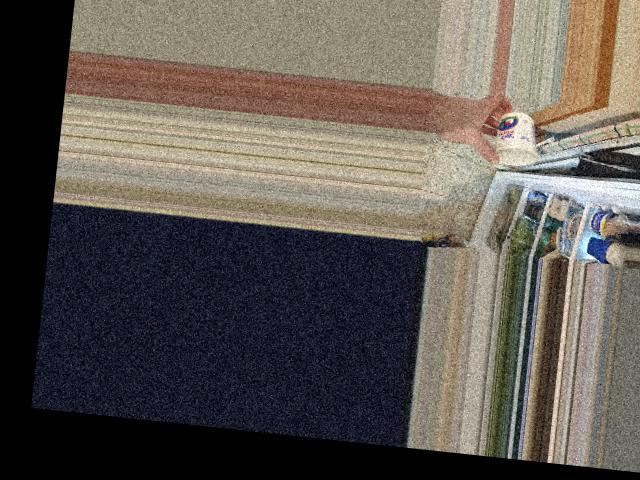cotage: (491, 109, 541, 167)
